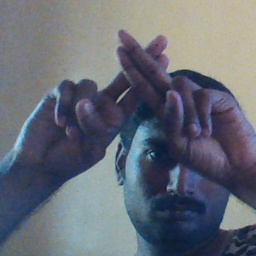F: (77, 23, 213, 140)
